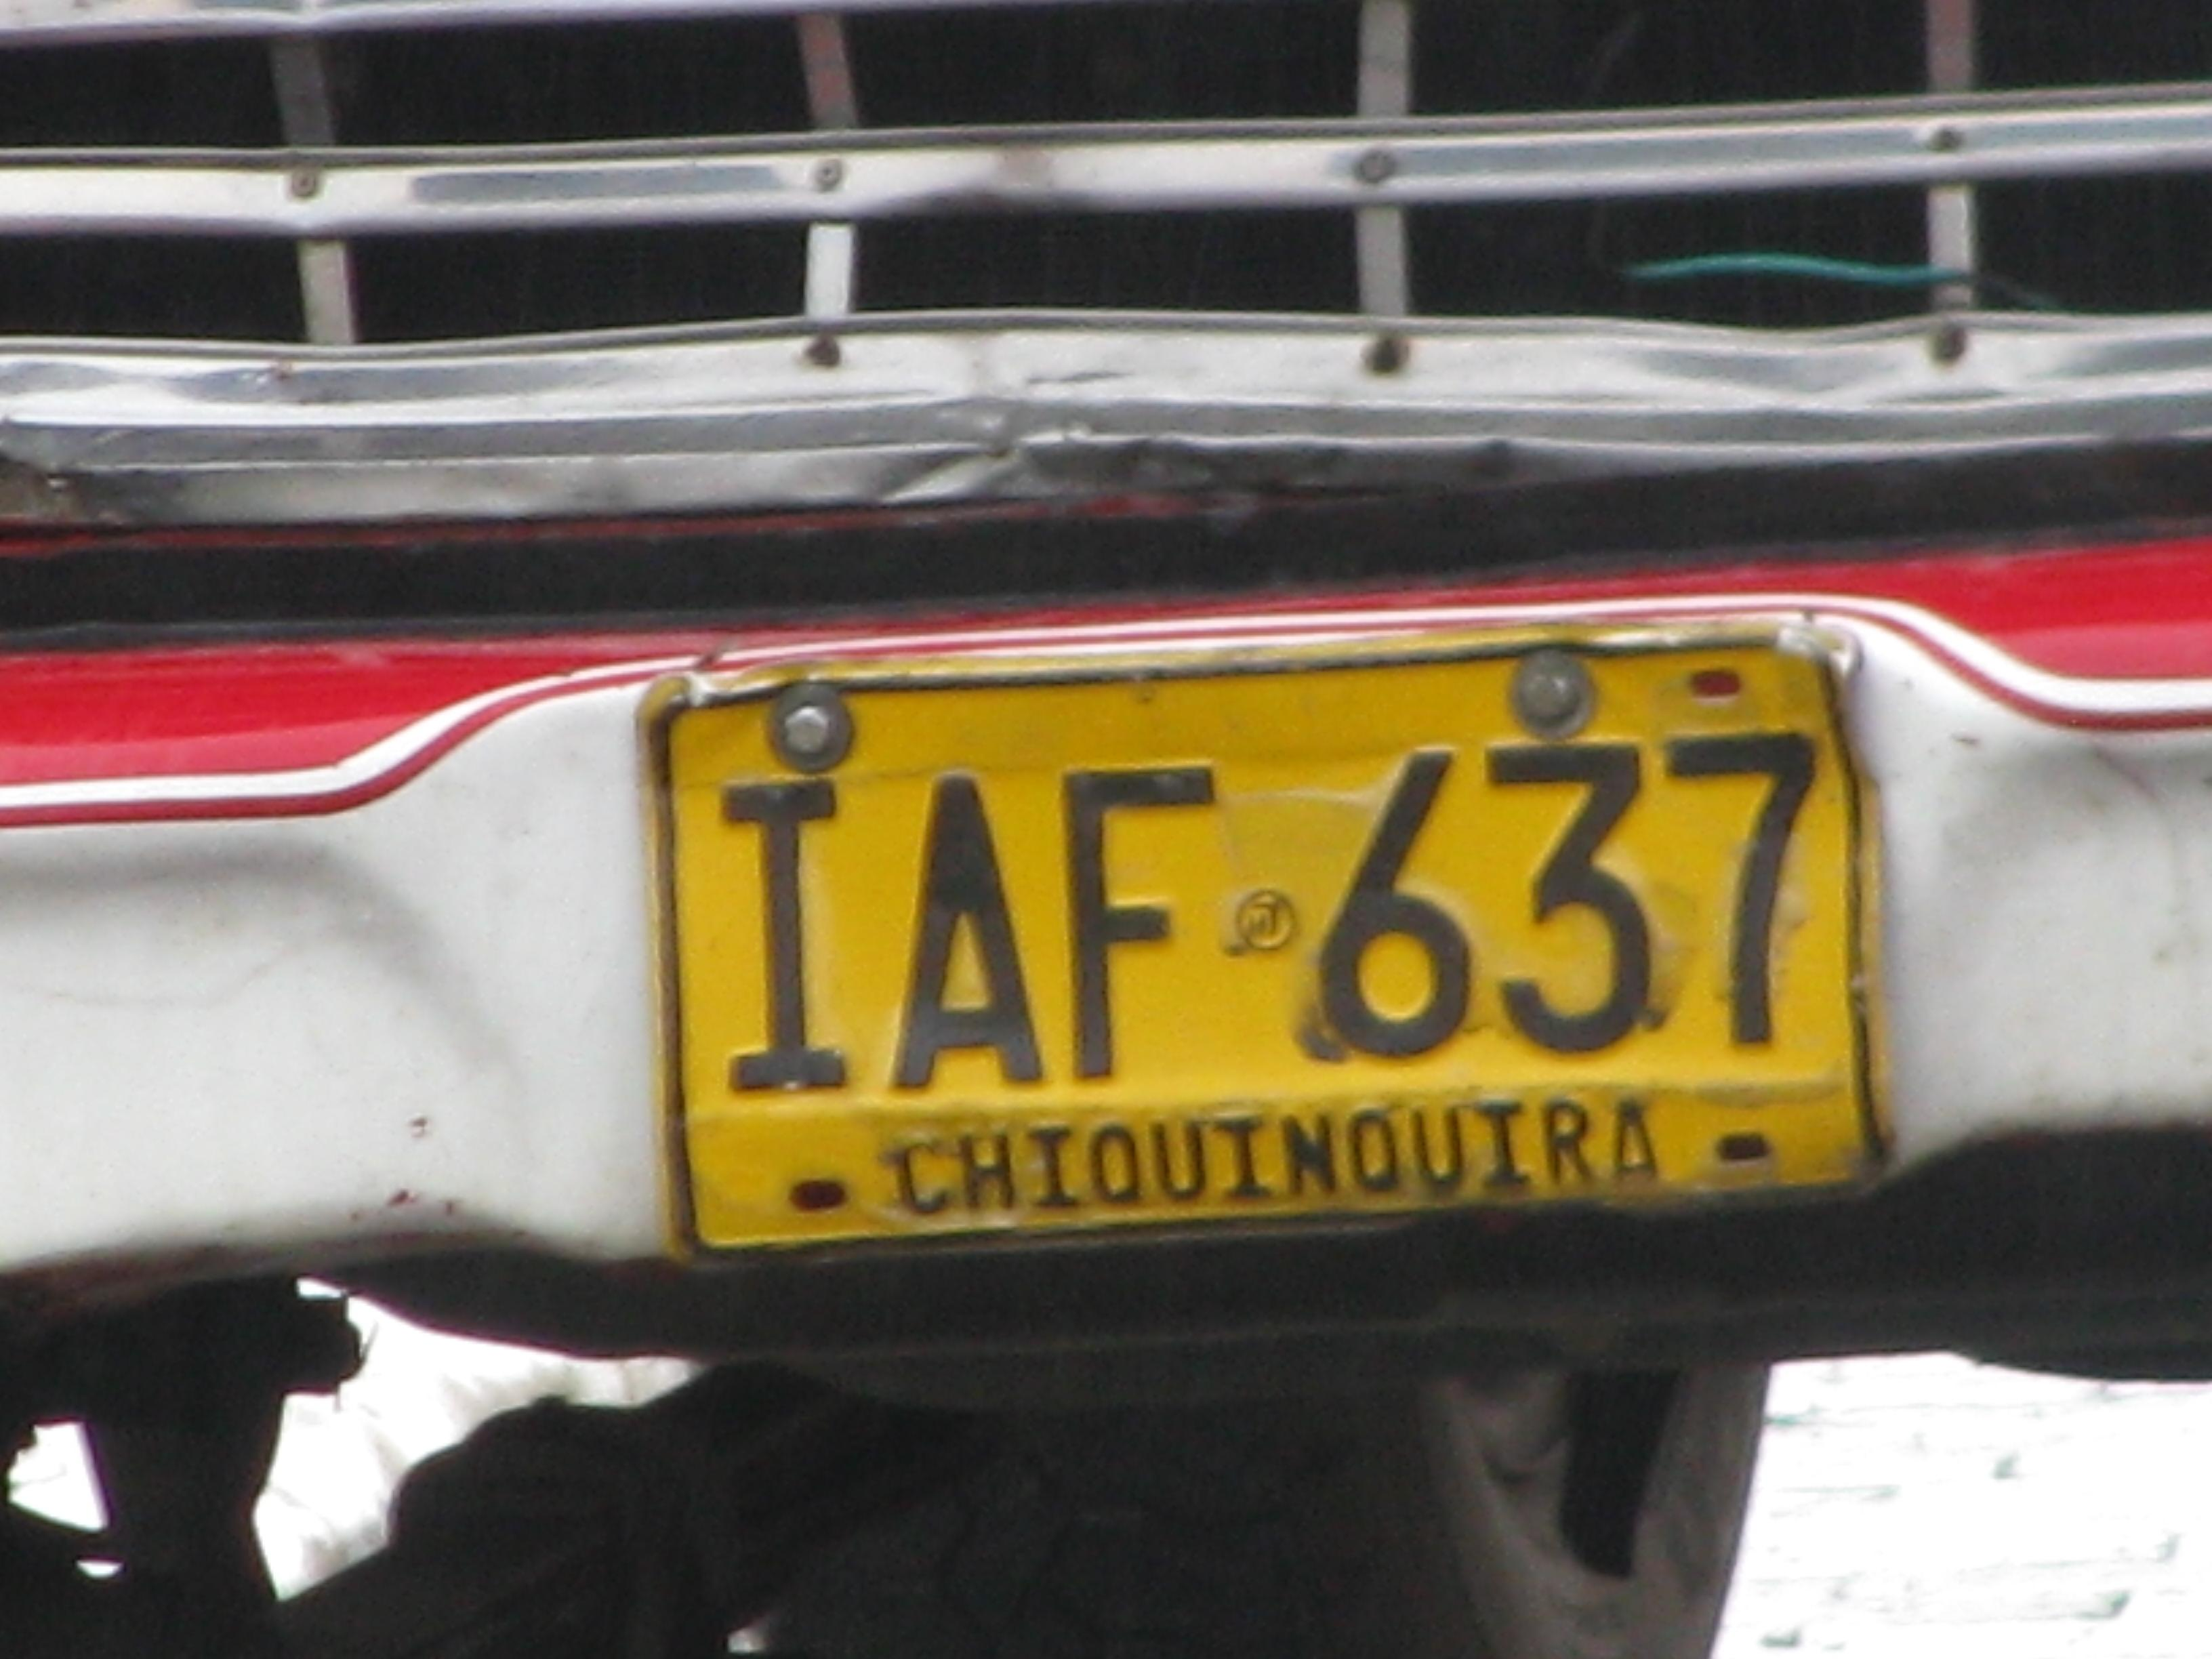placas: (621, 600, 1898, 1274)
